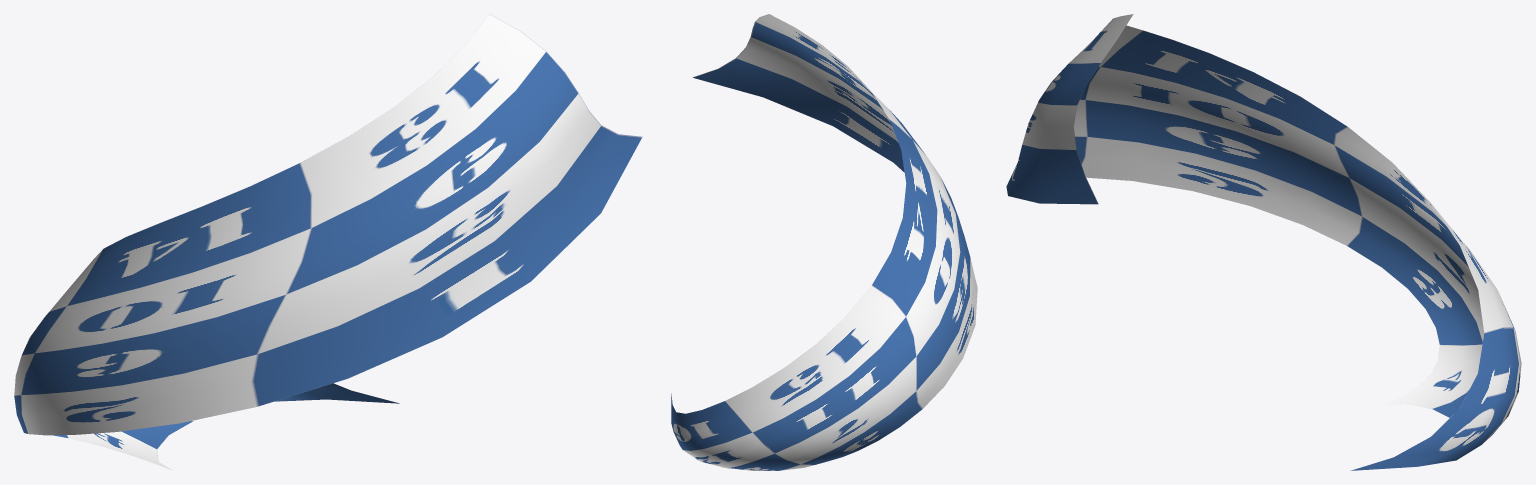
Rendered from Rengoku_Spl_078_Smoke3.fbx.
The picture shows the model from 3 angles, left to right: view 1: azimuth 30°, elevation 25°; view 2: azimuth 150°, elevation 25°; view 3: azimuth 270°, elevation 25°; orthographic projection. The views are drawn at different scales.
Parts seen in each view (by area): view 1: SM_d_e_P0012_V00_C00_SplRgk_c078_Smoke_03; view 2: SM_d_e_P0012_V00_C00_SplRgk_c078_Smoke_03; view 3: SM_d_e_P0012_V00_C00_SplRgk_c078_Smoke_03.
Boxes of the visible parts, bbox=[...] form: SM_d_e_P0012_V00_C00_SplRgk_c078_Smoke_03: bbox=[14, 14, 642, 470]; SM_d_e_P0012_V00_C00_SplRgk_c078_Smoke_03: bbox=[671, 14, 977, 470]; SM_d_e_P0012_V00_C00_SplRgk_c078_Smoke_03: bbox=[1006, 14, 1521, 470].
Size of the model in its own units: 211 by 212 by 210.
